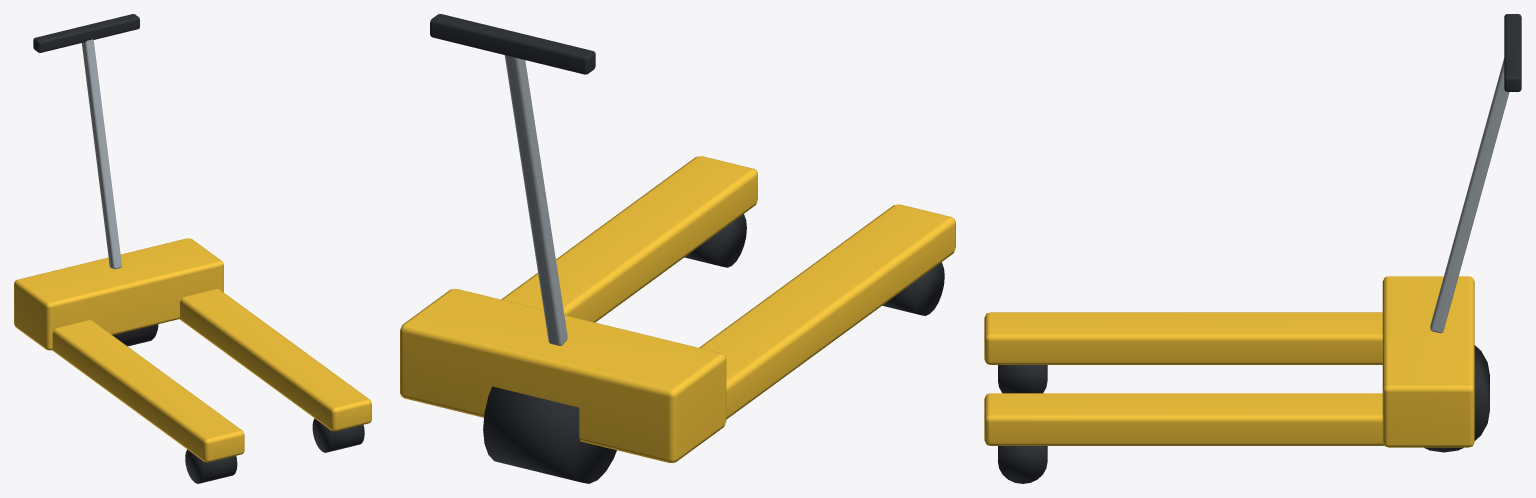
Rendered from handpallet.glb.
The picture shows the model from 3 angles, left to right: view 1: azimuth 30°, elevation 25°; view 2: azimuth 150°, elevation 25°; view 3: azimuth 270°, elevation 25°; orthographic projection. The views are drawn at different scales.
Parts seen in each view (by area): view 1: Hydraulic_base, Fork, Fork.001, Handle_stem, Handle_grip, Load_roller, Load_roller.001, Steer_wheel; view 2: Hydraulic_base, Fork, Fork.001, Steer_wheel, Handle_stem, Handle_grip, Load_roller, Load_roller.001; view 3: Fork.001, Fork, Hydraulic_base, Handle_stem, Load_roller.001, Steer_wheel, Load_roller, Handle_grip.
Part boxes in pixels (box(x1,y1,x2,y2)): Hydraulic_base: box(14, 238, 223, 350); Fork: box(52, 320, 244, 462); Fork.001: box(179, 289, 371, 431); Handle_stem: box(81, 39, 121, 269); Handle_grip: box(33, 14, 139, 52); Load_roller: box(185, 449, 237, 483); Load_roller.001: box(312, 418, 364, 452); Steer_wheel: box(113, 324, 158, 346); Hydraulic_base: box(400, 289, 726, 462); Fork: box(699, 204, 955, 419); Fork.001: box(501, 156, 757, 322); Steer_wheel: box(483, 386, 616, 483); Handle_stem: box(504, 55, 567, 345); Handle_grip: box(430, 14, 595, 74); Load_roller: box(882, 262, 944, 315); Load_roller.001: box(684, 214, 746, 267); Fork.001: box(984, 393, 1384, 445); Fork: box(984, 312, 1382, 364); Hydraulic_base: box(1382, 276, 1474, 447); Handle_stem: box(1430, 58, 1509, 332); Load_roller.001: box(998, 446, 1047, 483); Steer_wheel: box(1424, 345, 1489, 452); Load_roller: box(998, 365, 1047, 393); Handle_grip: box(1504, 14, 1521, 91).
Bounding box in the file's own units: 0.7 × 1.12 × 1.4.
